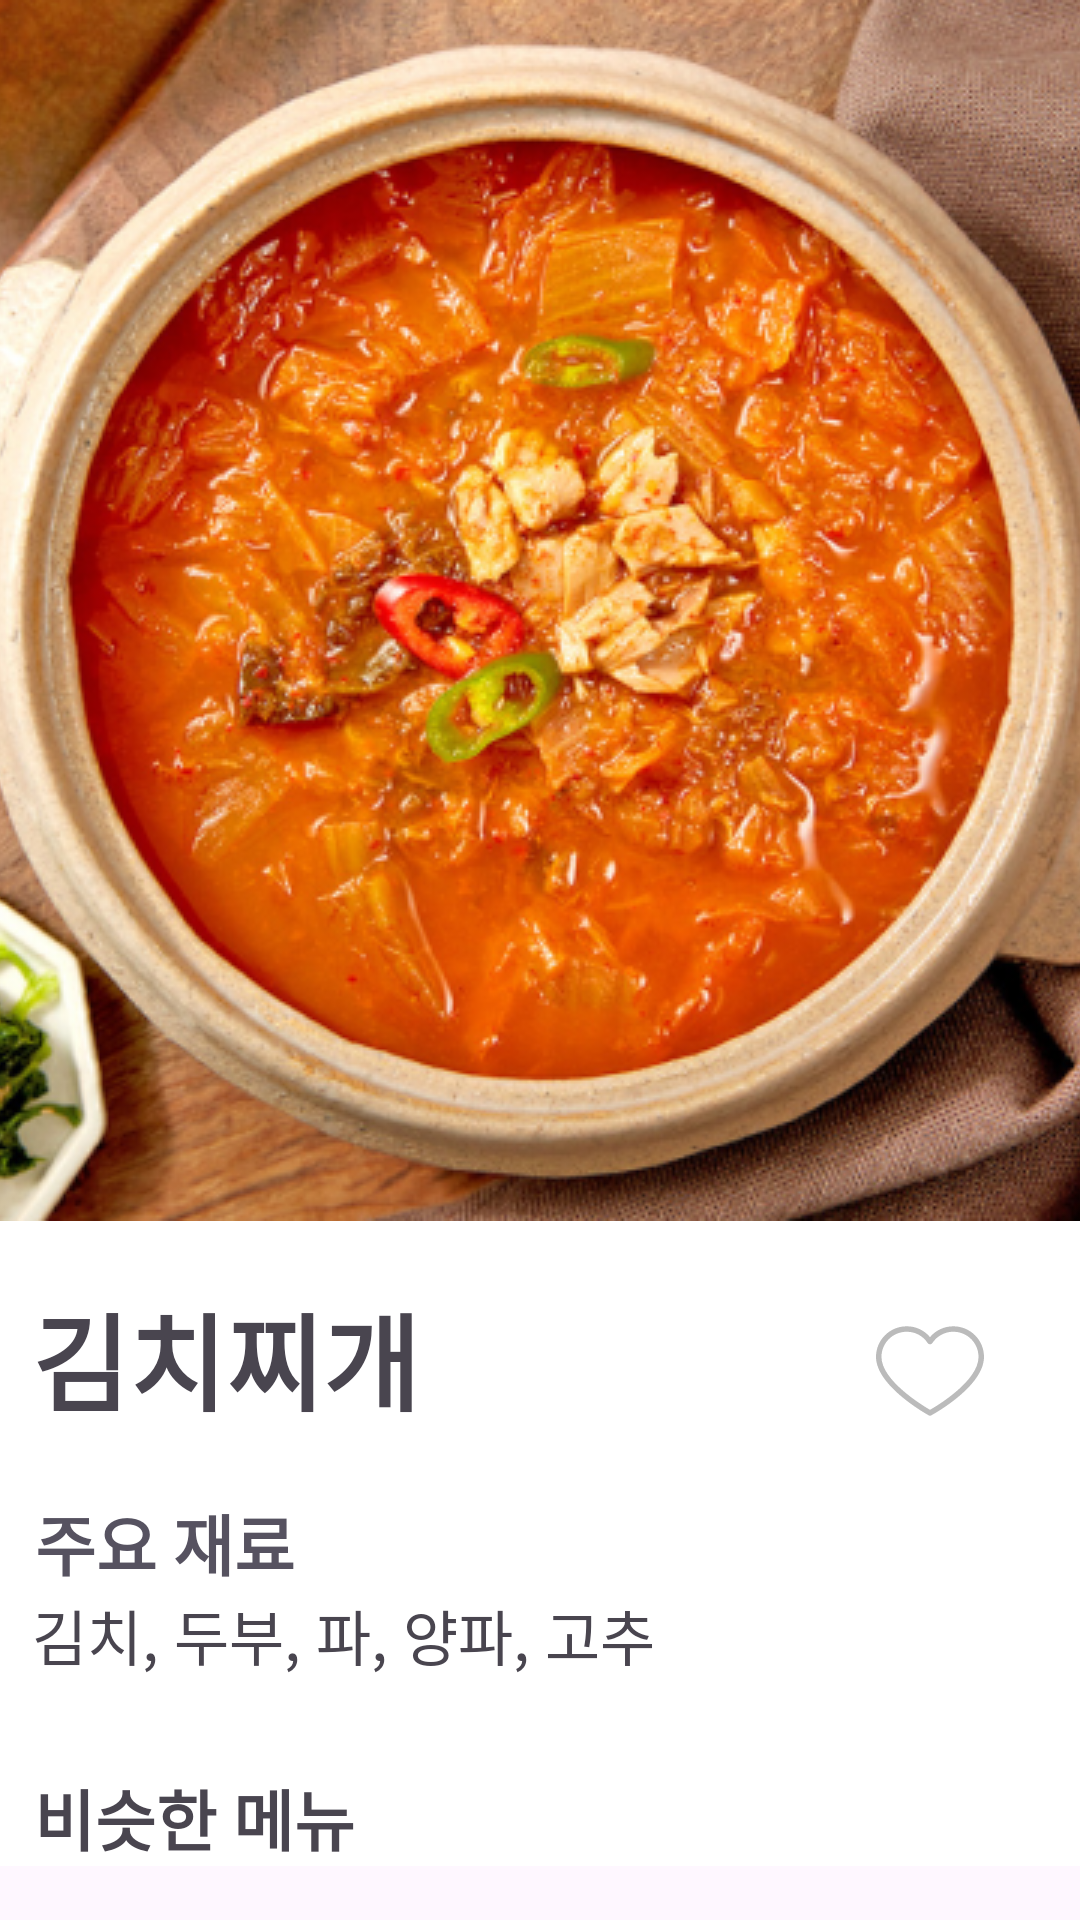

Icons on this 1080x1920 Android screen, each with the point to tap as (x=x, y=y):
heart empty: (x=930, y=1371)
